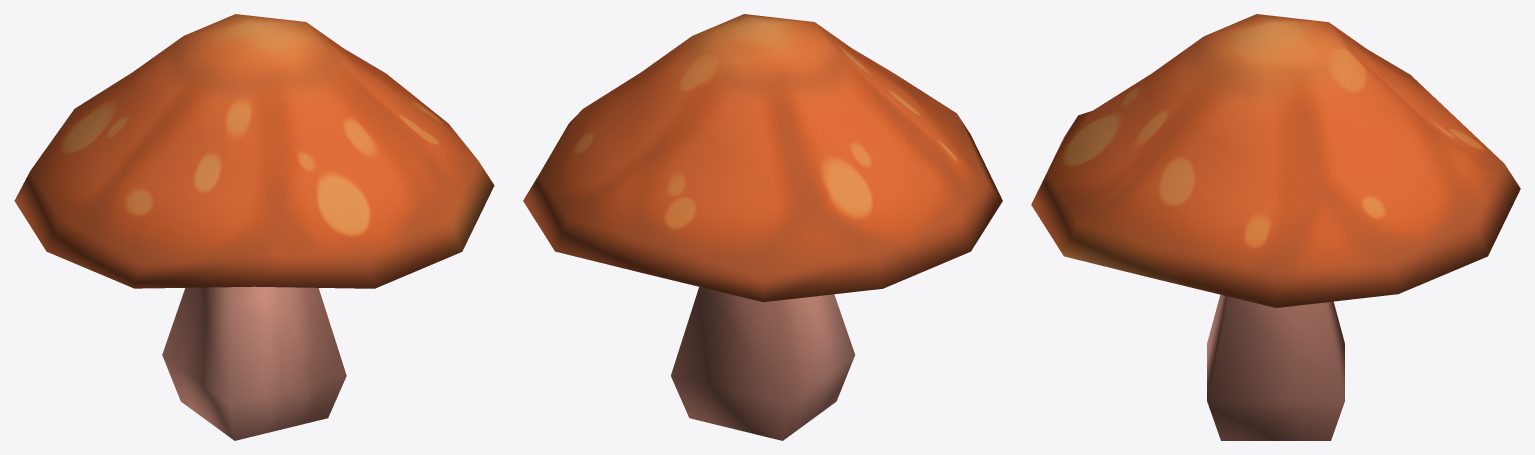
File: Snake_mushroom_02.fbx
3 renders of one model, left to right at view 1: azimuth 30°, elevation 25°; view 2: azimuth 150°, elevation 25°; view 3: azimuth 270°, elevation 25°, orthographic.
Visible parts, largest first — view 1: Snake_mushroom_02; view 2: Snake_mushroom_02; view 3: Snake_mushroom_02.
Part boxes in pixels (x1,y1,x2,y2): Snake_mushroom_02: (14, 14, 494, 440); Snake_mushroom_02: (523, 14, 1002, 440); Snake_mushroom_02: (1031, 14, 1520, 440).
Bounding box in the file's own units: 91.94 × 81.53 × 91.94.
